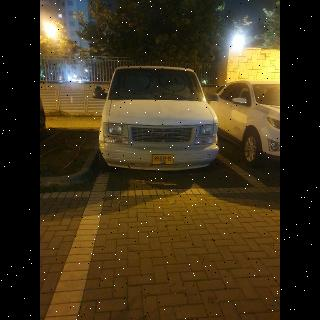LicensePlate: (153, 155, 173, 161)
